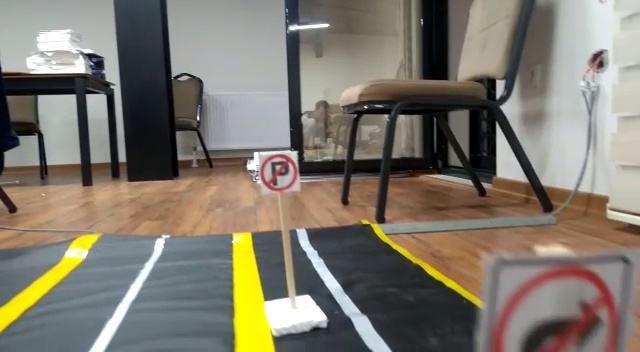park_yapilmaz: (256, 152, 299, 192)
saga_donulmez: (487, 256, 630, 352)
